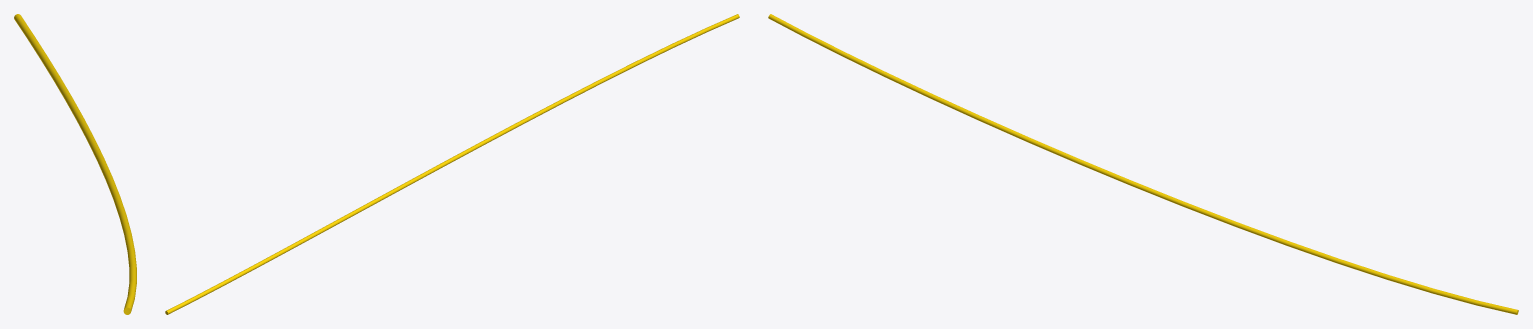
The model's file is Event_421364160_track_34.fbx.
3 views of the same model, side by side, from view 1: azimuth 90°, elevation 25°; view 2: azimuth 210°, elevation 25°; view 3: azimuth 330°, elevation 25° (orthographic). The views are drawn at different scales.
Parts seen in each view (by area): view 1: Model; view 2: Model; view 3: Model.
Boxes of the visible parts, <box> form: Model: <box>14,14,136,314</box>; Model: <box>165,14,739,314</box>; Model: <box>768,14,1518,314</box>.
Size of the model in its own units: 6.4 by 1.33 by 0.6429.
